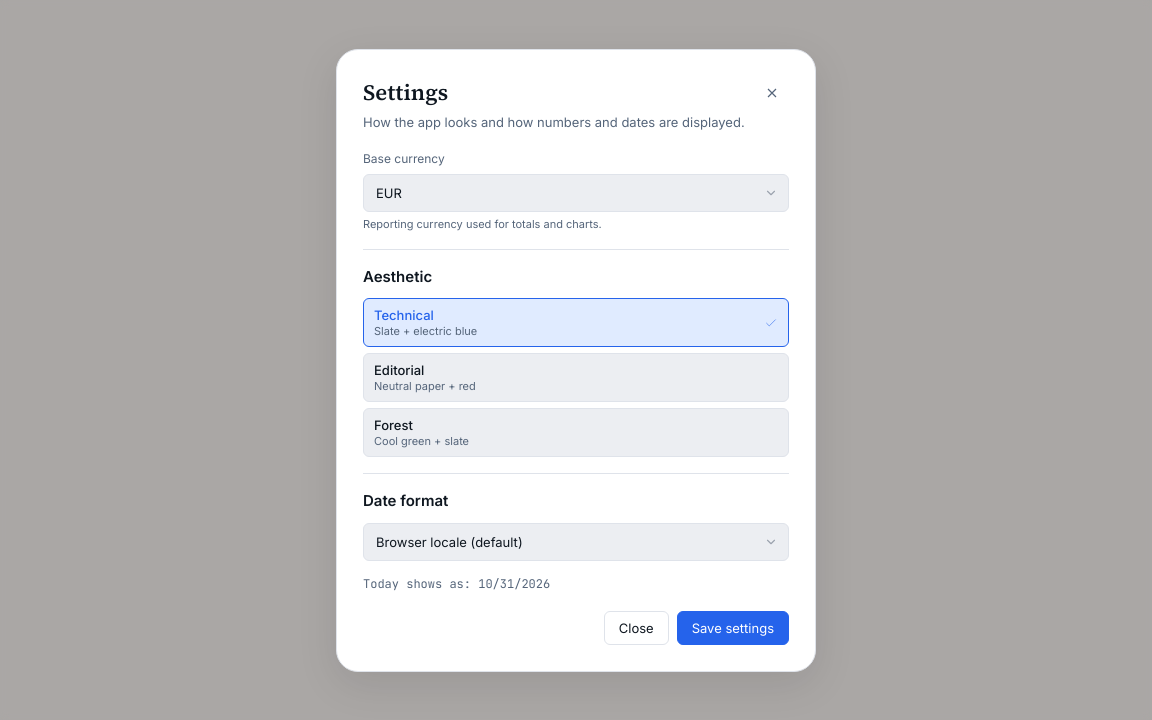
Test: SettingsModal — base currency › skips api.updateMe when the base currency is unchanged
The width and height of the screenshot is (1152, 720).
Step 1. Click the button "Save settings" → (733, 628), box [677,610,789,644]
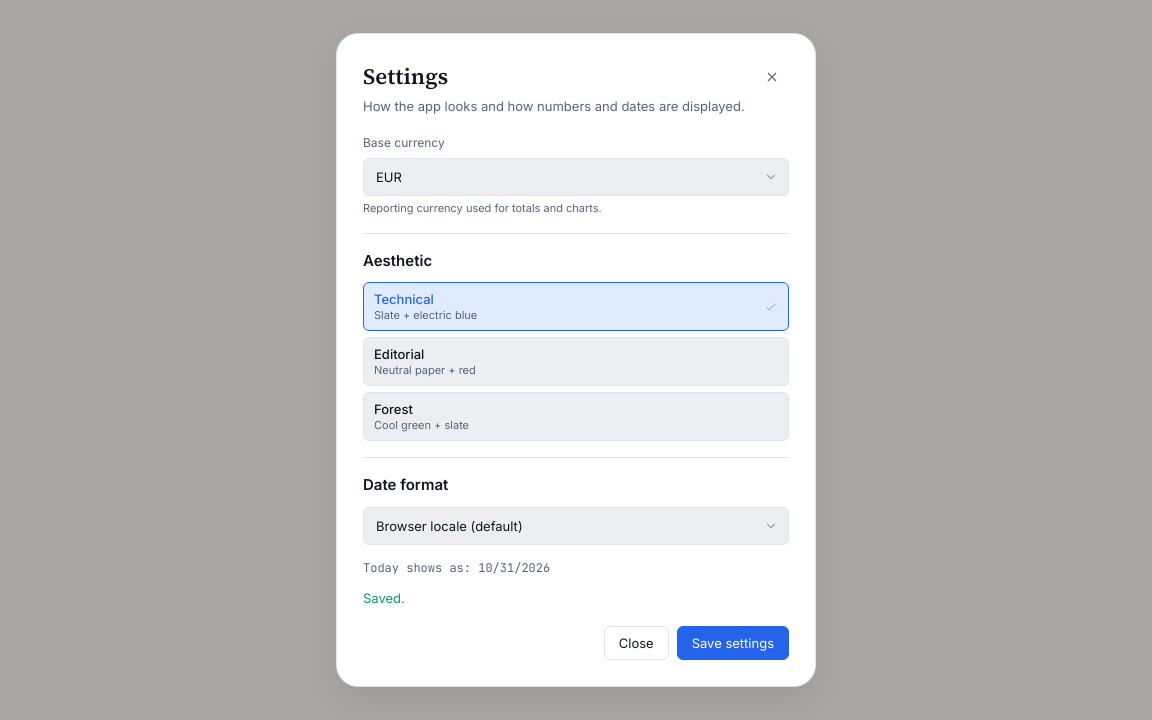
Expected: the text "Saved." is shown, [363,590,405,606]
